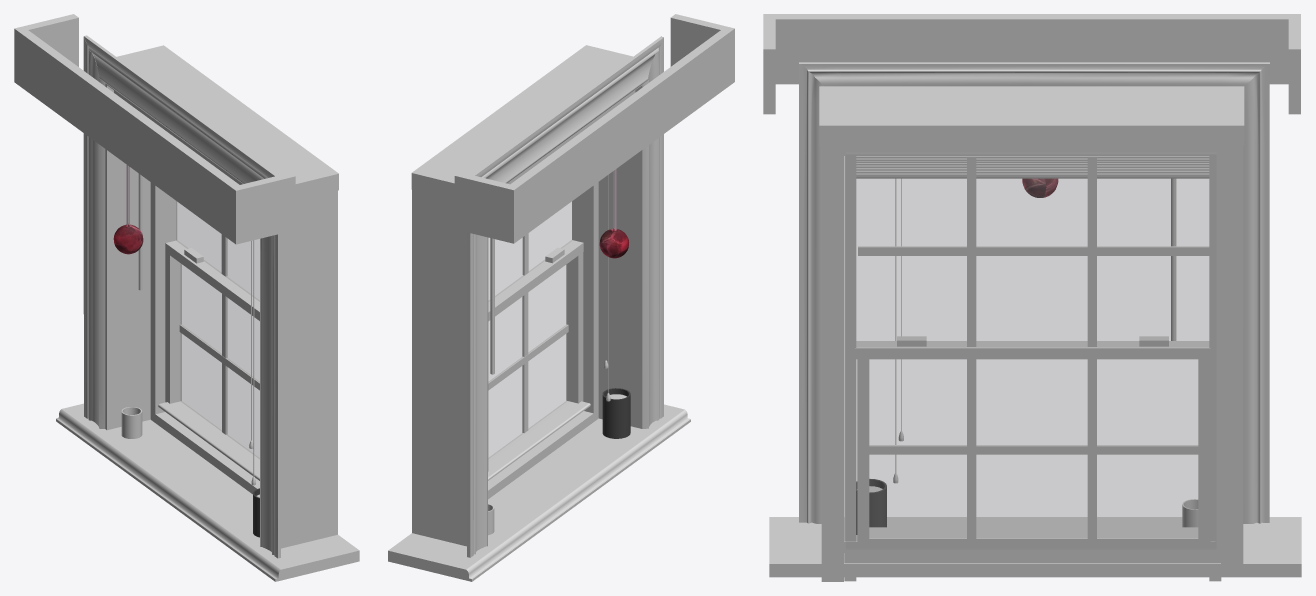
File: Window1.fbx
The picture shows the model from 3 angles, left to right: view 1: azimuth 30°, elevation 25°; view 2: azimuth 150°, elevation 25°; view 3: azimuth 270°, elevation 25°; orthographic projection. The views are drawn at different scales.
Visible parts, largest first — view 1: Window_89; view 2: Window_89; view 3: Window_89.
Part boxes in pixels (left/top/right/bottom): Window_89: left=14, top=14, right=359, bottom=581; Window_89: left=388, top=14, right=734, bottom=581; Window_89: left=763, top=14, right=1301, bottom=581.
Size of the model in its own units: 1.72 by 4.96 by 4.91.
